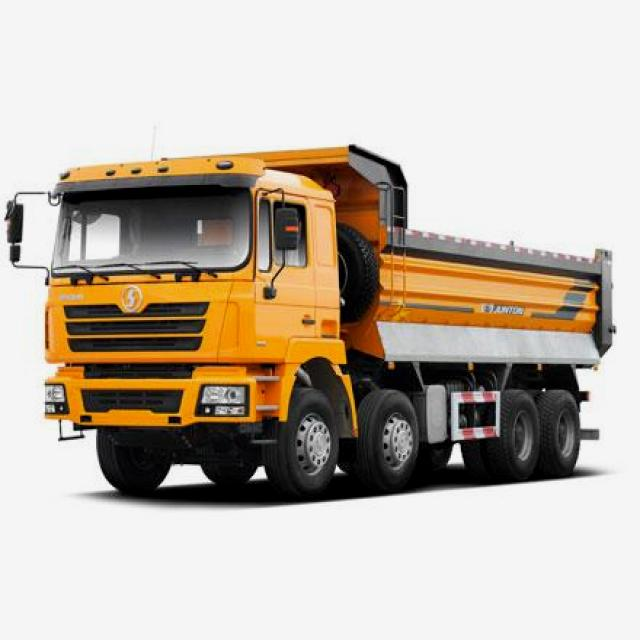TRUCK: (34, 129, 618, 495)
